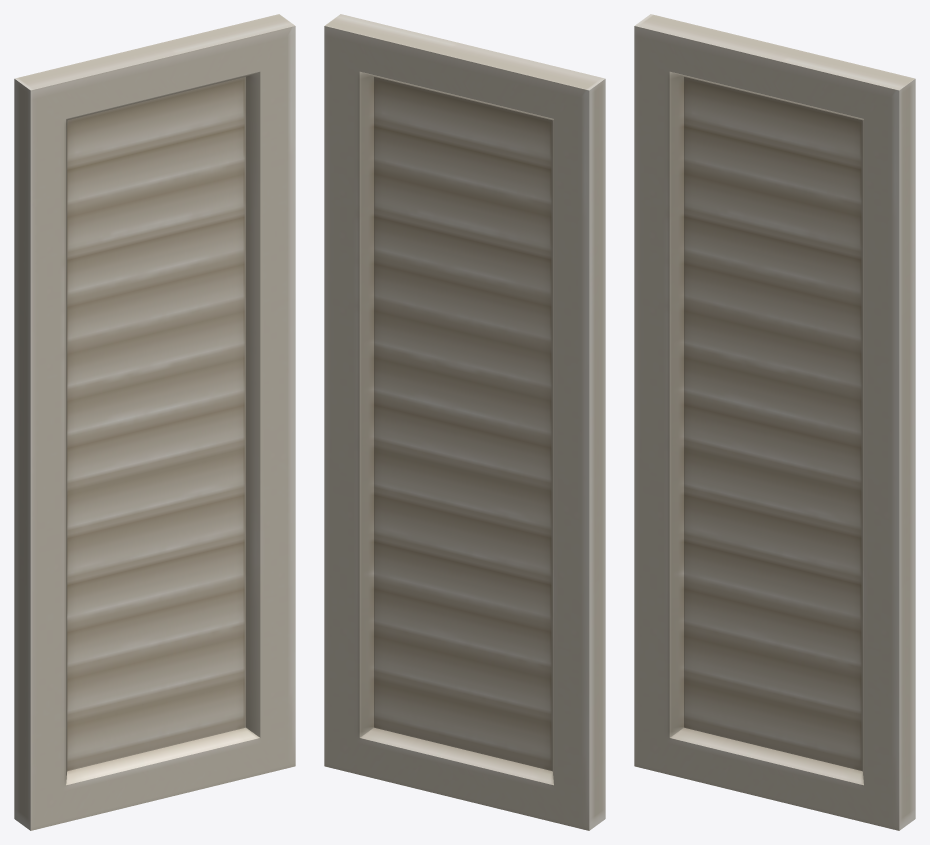
File: Shutter_4_1.FBX
The picture shows the model from 3 angles, left to right: view 1: azimuth 30°, elevation 25°; view 2: azimuth 150°, elevation 25°; view 3: azimuth 330°, elevation 25°; orthographic projection.
Parts seen in each view (by area): view 1: Shutter_4_1; view 2: Shutter_4_1; view 3: Shutter_4_1.
Part boxes in pixels (x1,y1,x2,y2): Shutter_4_1: [14, 14, 295, 830]; Shutter_4_1: [324, 14, 605, 830]; Shutter_4_1: [634, 14, 915, 830].
Size of the model in its own units: 46.87 by 125 by 5.
